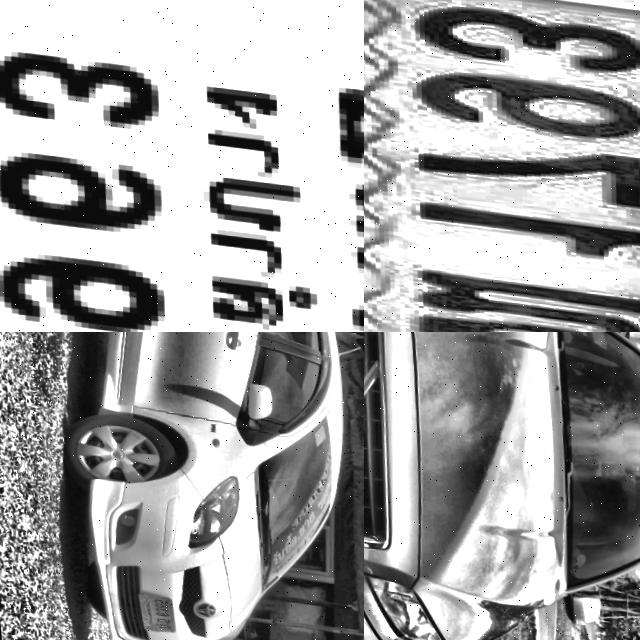license-plate: (0, 0, 364, 332), (364, 0, 640, 332), (125, 588, 171, 632)
